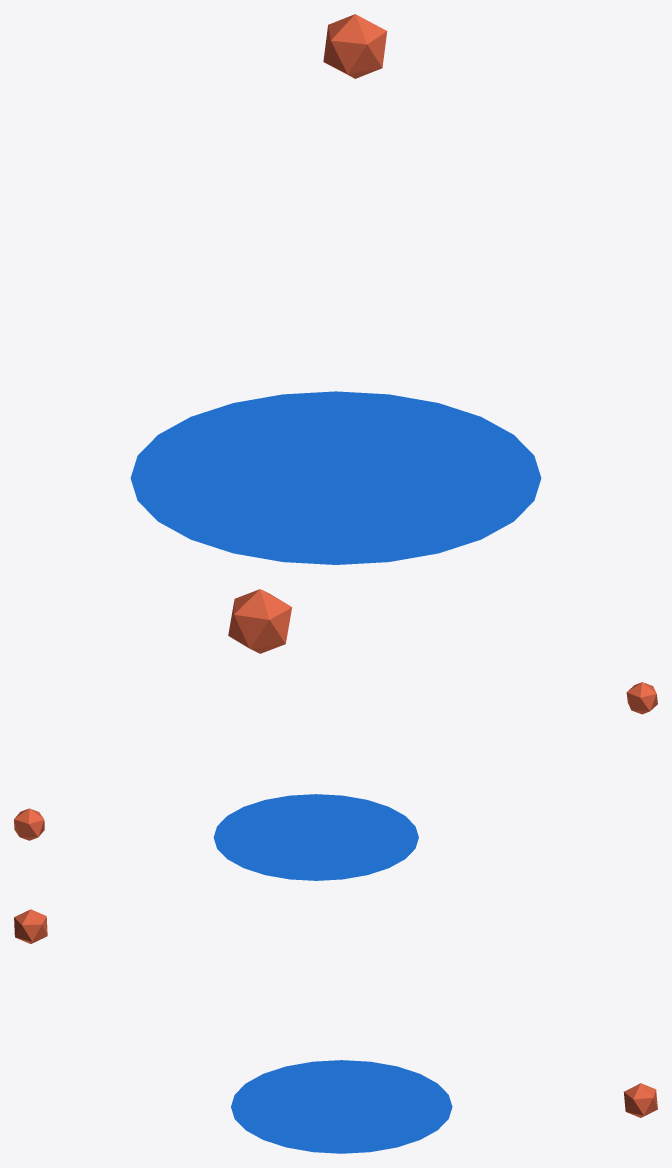
File: park.gltf
3 views of the same model, one above another, from view 1: azimuth 30°, elevation 25°; view 2: azimuth 150°, elevation 25°; view 3: azimuth 270°, elevation 25° (orthographic). The views are drawn at different scales.
Visible parts, largest first — view 1: PondWater, Leaf3_convex_colider.001, Leaf3_convex_colider; view 2: PondWater, Leaf3_convex_colider.001, Leaf3_convex_colider; view 3: PondWater, Leaf3_convex_colider, Leaf3_convex_colider.001.
Boxes of the visible parts, x1,y1,x2,y2 form: PondWater: (130,391,541,564); Leaf3_convex_colider.001: (323,14,387,78); Leaf3_convex_colider: (228,589,292,653); PondWater: (213,794,418,880); Leaf3_convex_colider.001: (14,808,44,840); Leaf3_convex_colider: (626,682,657,714); PondWater: (231,1060,452,1153); Leaf3_convex_colider: (14,909,47,943); Leaf3_convex_colider.001: (623,1083,657,1117).
Size of what is drawn, in the model's own units: 3.37 by 0.8489 by 4.86.
